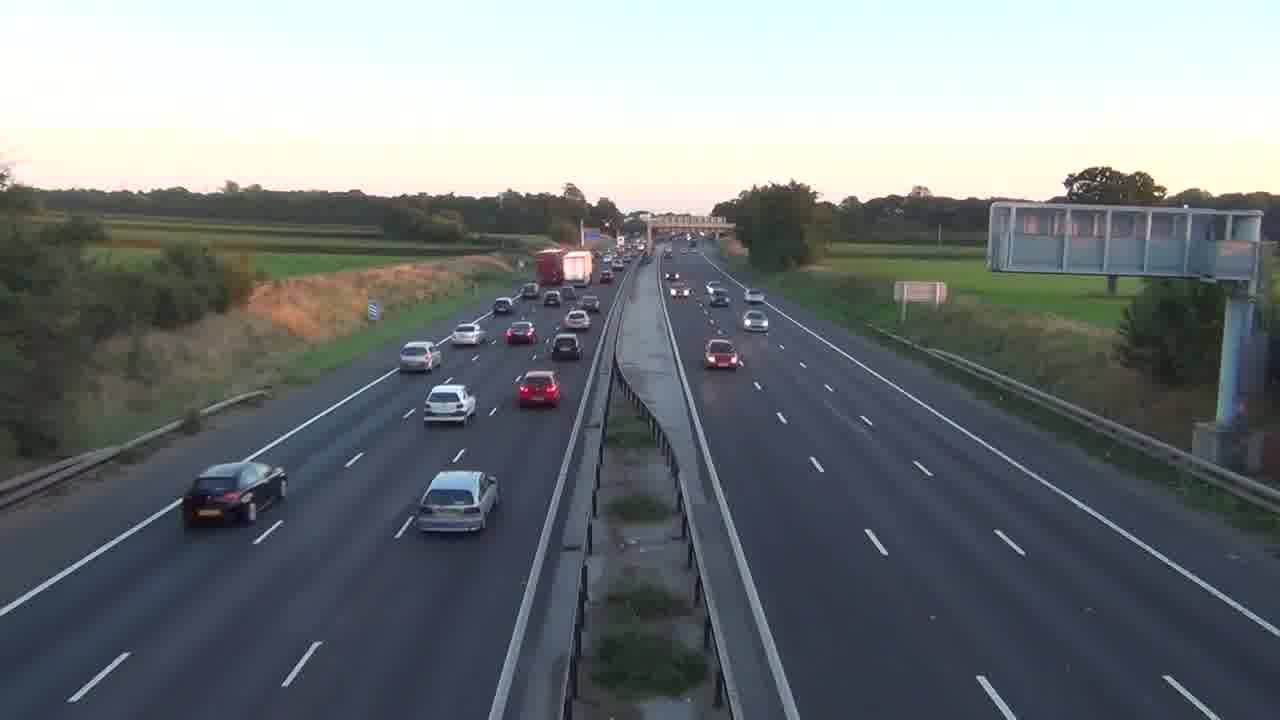car: (182, 460, 287, 528), (415, 468, 501, 535), (423, 381, 478, 425), (515, 369, 561, 409), (704, 337, 744, 371), (399, 340, 440, 373), (550, 332, 582, 361), (504, 321, 537, 346), (742, 308, 769, 333), (563, 308, 591, 331)
